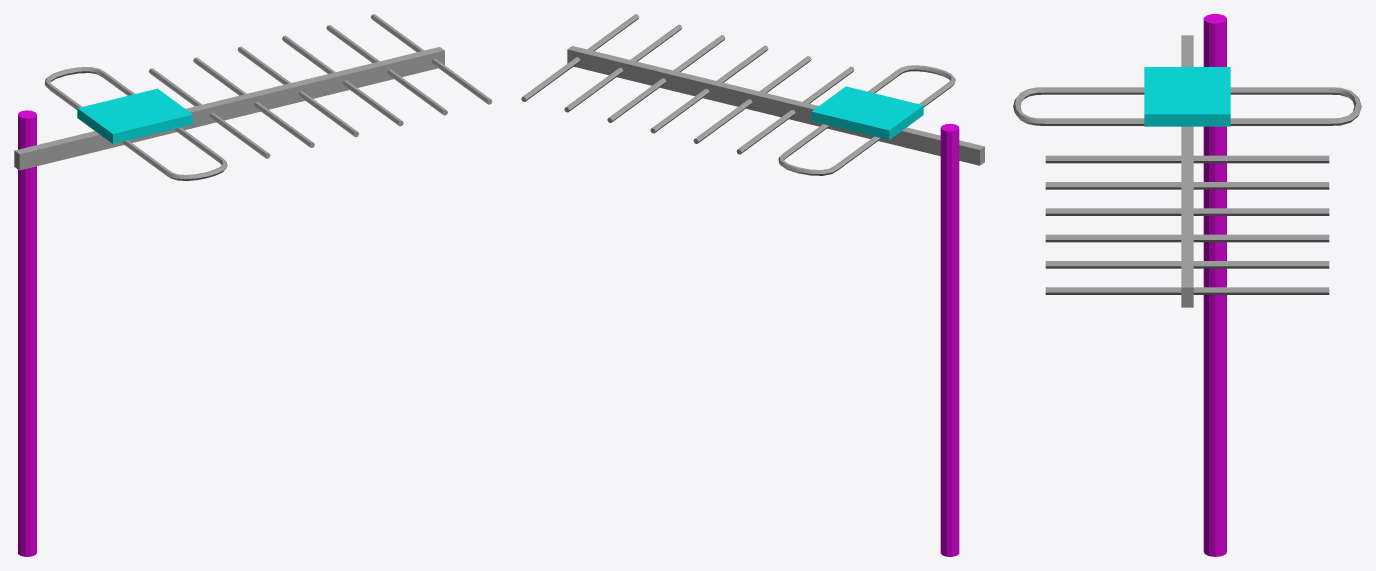
Rendered from Antina02.fbx.
The picture shows the model from 3 angles, left to right: view 1: azimuth 30°, elevation 25°; view 2: azimuth 150°, elevation 25°; view 3: azimuth 270°, elevation 25°; orthographic projection. The views are drawn at different scales.
Visible parts, largest first — view 1: polySurface280, polySurface276, polySurface281, polySurface284, polySurface277, polySurface279, polySurface278, polySurface282, polySurface283, polySurface275; view 2: polySurface280, polySurface276, polySurface281, polySurface284, polySurface275, polySurface283, polySurface282, polySurface279, polySurface277, polySurface278; view 3: polySurface280, polySurface281, polySurface284, polySurface276, polySurface278, polySurface282, polySurface275, polySurface277, polySurface279, polySurface283.
Part boxes in pixels (x1,y1,x2,y2): polySurface280: [18, 110, 36, 556]; polySurface276: [14, 47, 444, 170]; polySurface281: [77, 88, 192, 143]; polySurface284: [44, 67, 227, 180]; polySurface277: [370, 14, 492, 104]; polySurface279: [193, 57, 314, 147]; polySurface278: [282, 35, 403, 126]; polySurface282: [149, 68, 270, 158]; polySurface283: [237, 46, 358, 137]; polySurface275: [326, 25, 447, 115]; polySurface280: [940, 123, 959, 556]; polySurface276: [567, 46, 984, 165]; polySurface281: [811, 86, 923, 139]; polySurface284: [778, 65, 955, 175]; polySurface275: [564, 24, 682, 112]; polySurface283: [650, 45, 768, 133]; polySurface282: [736, 66, 854, 154]; polySurface279: [693, 56, 811, 143]; polySurface277: [521, 14, 639, 101]; polySurface278: [607, 35, 725, 122]; polySurface280: [1203, 14, 1226, 556]; polySurface281: [1144, 67, 1230, 126]; polySurface284: [1013, 87, 1361, 125]; polySurface276: [1181, 35, 1193, 307]; polySurface278: [1045, 234, 1329, 242]; polySurface282: [1045, 155, 1329, 163]; polySurface275: [1045, 261, 1329, 268]; polySurface277: [1045, 287, 1329, 294]; polySurface279: [1045, 182, 1329, 189]; polySurface283: [1045, 208, 1329, 215].
Bounding box in the file's own units: 508 × 500 × 296.
